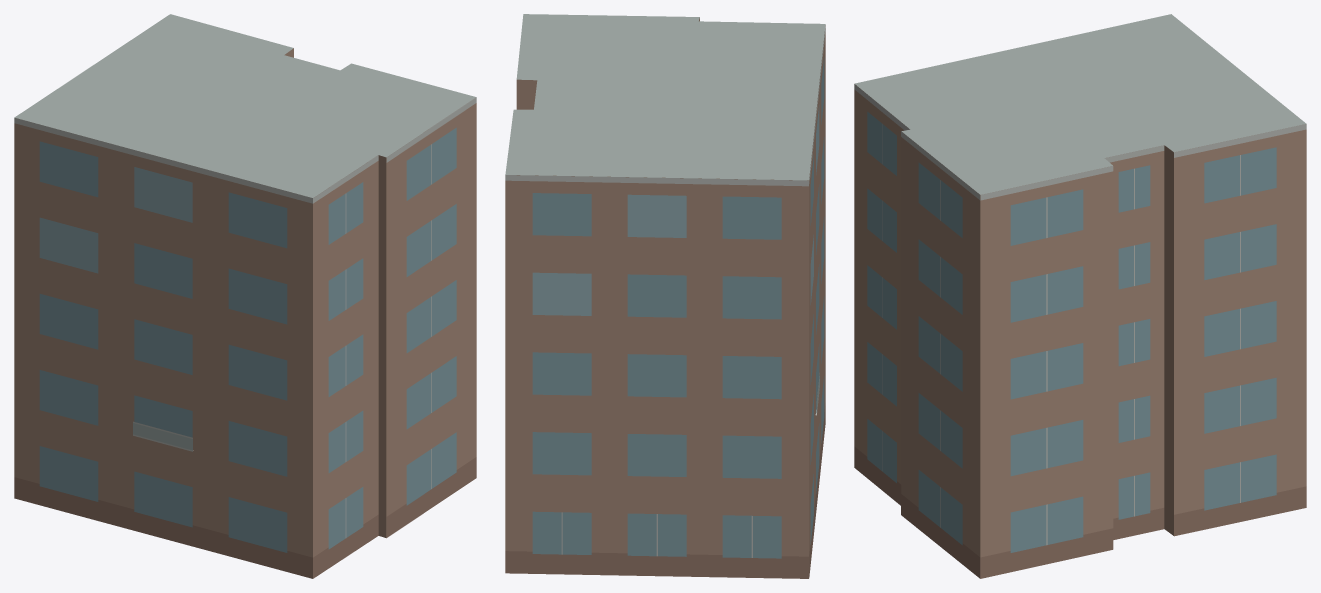
Rendered from survey-upis-32977897.glb.
The picture shows the model from 3 angles, left to right: view 1: azimuth 30°, elevation 25°; view 2: azimuth 150°, elevation 25°; view 3: azimuth 270°, elevation 25°; orthographic projection. The views are drawn at different scales.
Parts seen in each view (by area): view 1: survey-upis-32977897.tmp; view 2: survey-upis-32977897.tmp; view 3: survey-upis-32977897.tmp.
Part boxes in pixels (x1,y1,x2,y2): survey-upis-32977897.tmp: [14, 14, 476, 578]; survey-upis-32977897.tmp: [505, 14, 825, 578]; survey-upis-32977897.tmp: [854, 14, 1306, 578].
Bounding box in the file's own units: 16.79 × 16.6 × 17.74.
